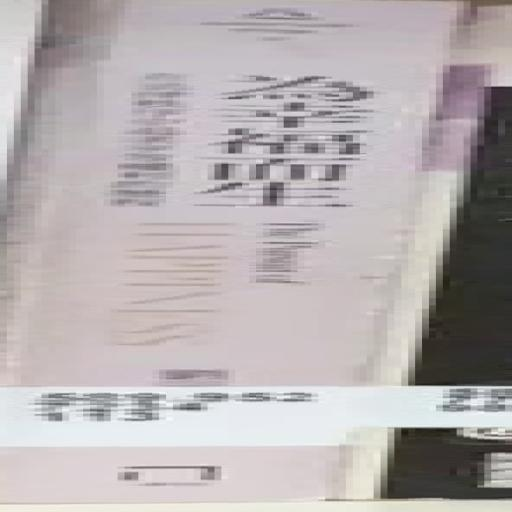book: (1, 1, 506, 512)
